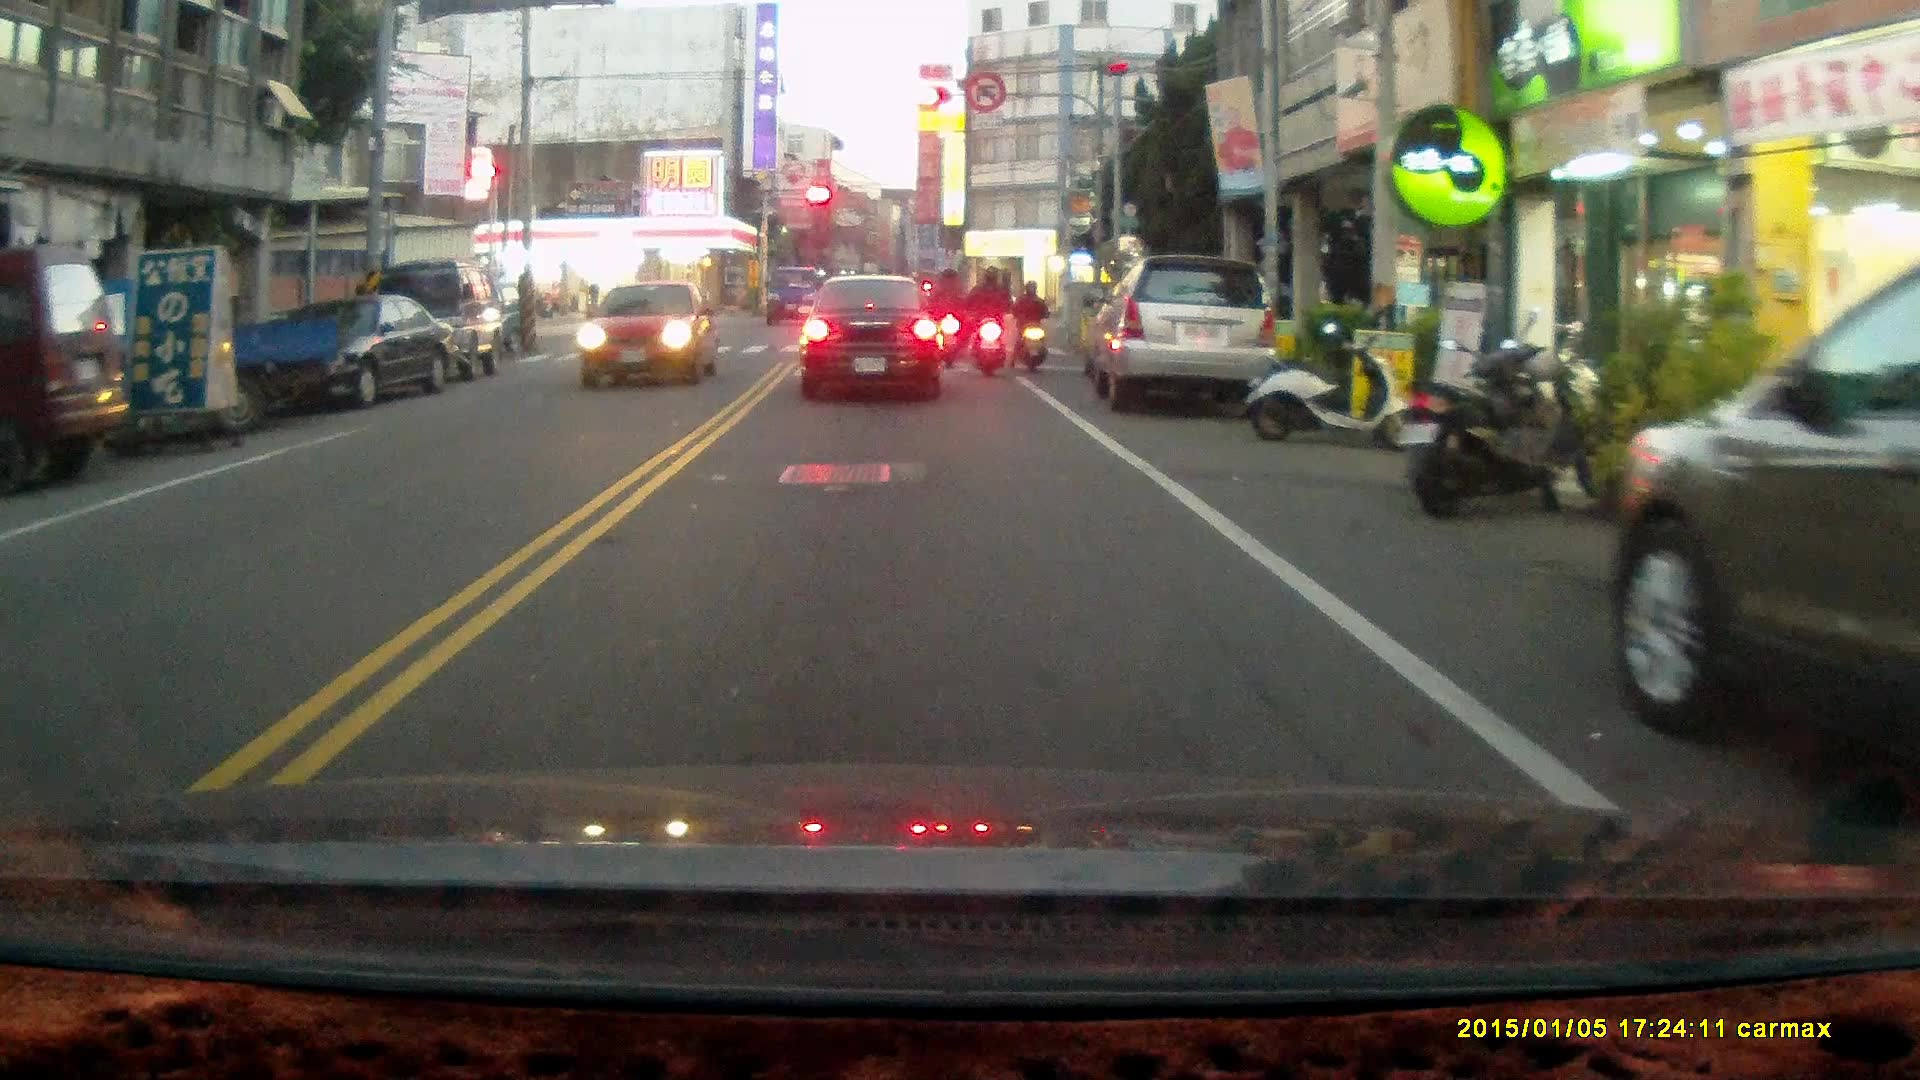rider: (962, 268, 1014, 382), (928, 268, 966, 371), (1011, 280, 1050, 378)
vehicle: (1605, 245, 1920, 823), (1086, 254, 1284, 423), (1, 246, 137, 485), (238, 293, 460, 410), (365, 256, 510, 389), (799, 273, 944, 405), (576, 281, 715, 391)
